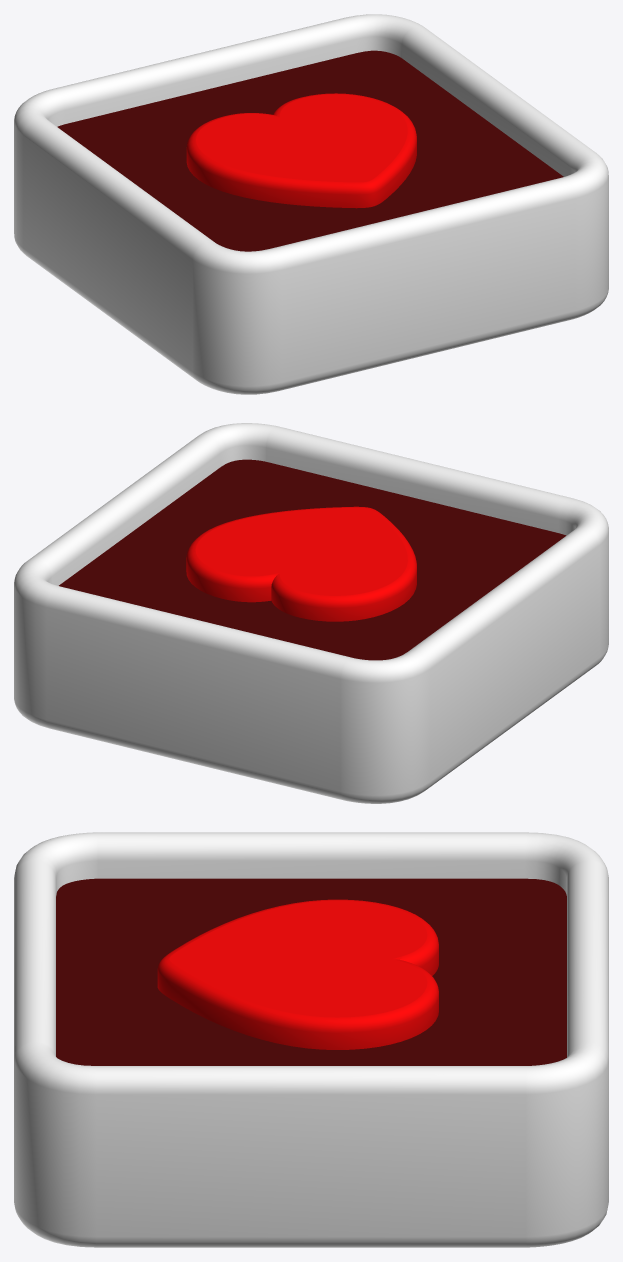
File: Bonus-Live.dae
3 renders of one model, top to bottom at view 1: azimuth 30°, elevation 25°; view 2: azimuth 150°, elevation 25°; view 3: azimuth 270°, elevation 25°, orthographic. The views are drawn at different scales.
Parts seen in each view (by area): view 1: Bonus; view 2: Bonus; view 3: Bonus.
Part boxes in pixels (x1=…): Bonus: x1=14, y1=14, x2=608, y2=394; Bonus: x1=14, y1=423, x2=608, y2=803; Bonus: x1=14, y1=832, x2=608, y2=1247.
Bounding box in the file's own units: 0.1517 × 0.05 × 0.1517.
